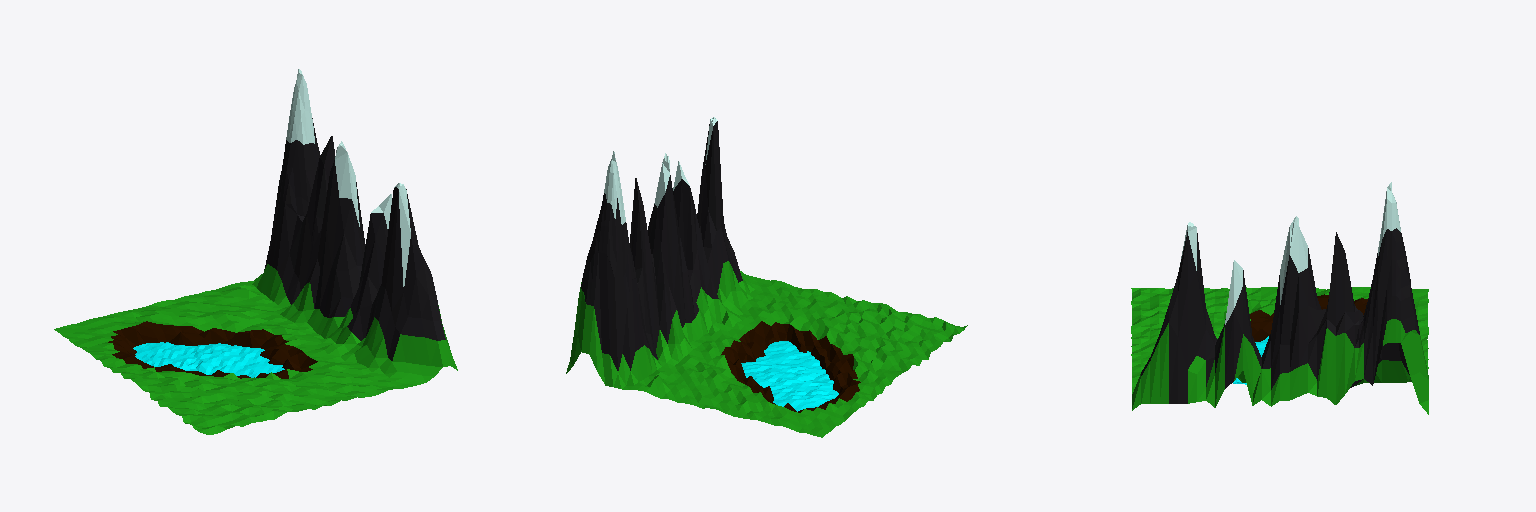
File: mountain.obj
3 renders of one model, left to right at view 1: azimuth 30°, elevation 25°; view 2: azimuth 150°, elevation 25°; view 3: azimuth 270°, elevation 25°, orthographic.
Parts seen in each view (by area): view 1: Plane, Plane.001_Plane.002; view 2: Plane, Plane.001_Plane.002; view 3: Plane.
Boxes of the visible parts, <box> form: Plane: <box>54,69,457,434</box>; Plane.001_Plane.002: <box>133,342,284,377</box>; Plane: <box>566,117,967,437</box>; Plane.001_Plane.002: <box>741,341,838,411</box>; Plane: <box>1131,182,1428,414</box>.
Bounding box in the file's own units: 16.02 × 14.56 × 16.02.